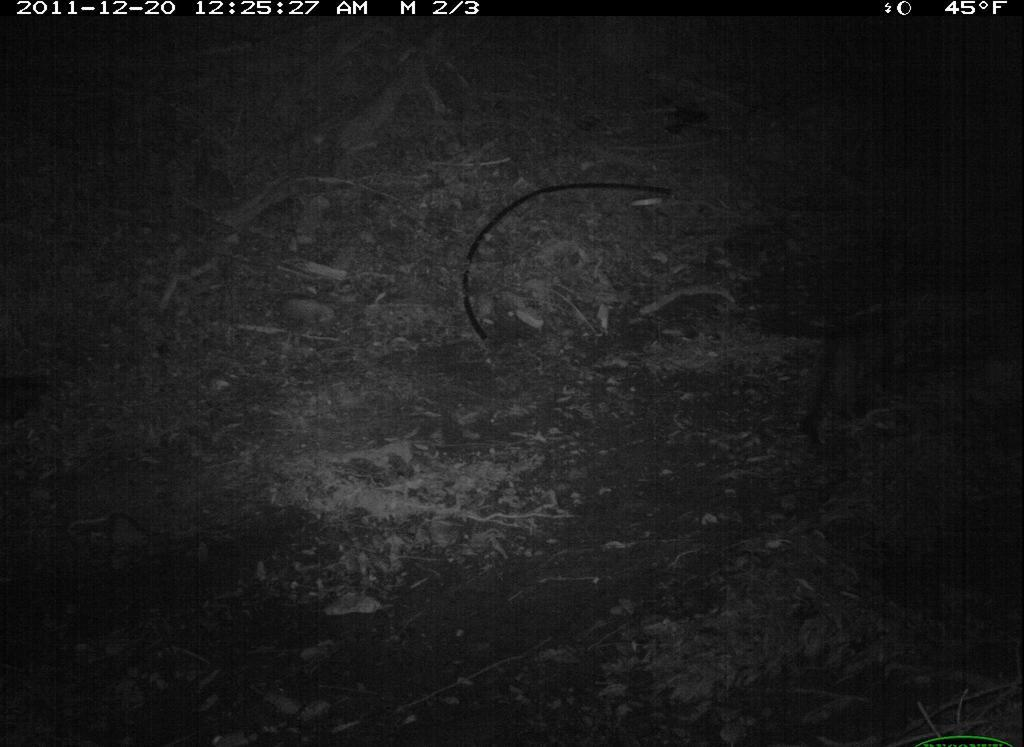cat: (797, 287, 932, 449)
